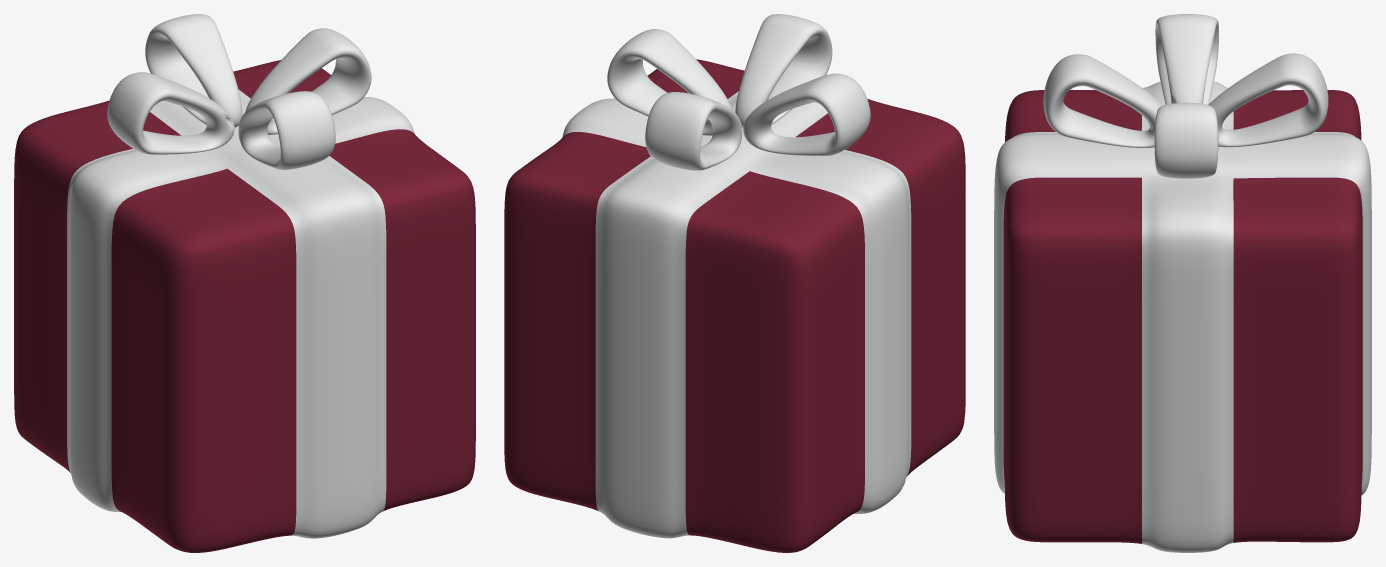
Rendered from giftMiddle.fbx.
3 views of the same model, side by side, from view 1: azimuth 30°, elevation 25°; view 2: azimuth 150°, elevation 25°; view 3: azimuth 270°, elevation 25° (orthographic).
Parts seen in each view (by area): view 1: giftMiddle; view 2: giftMiddle; view 3: giftMiddle.
Part boxes in pixels (x1,y1,x2,y2): giftMiddle: (14,14,475,552); giftMiddle: (504,14,965,552); giftMiddle: (994,14,1371,552).
Size of the model in its own units: 0.3266 by 0.4067 by 0.3295.
